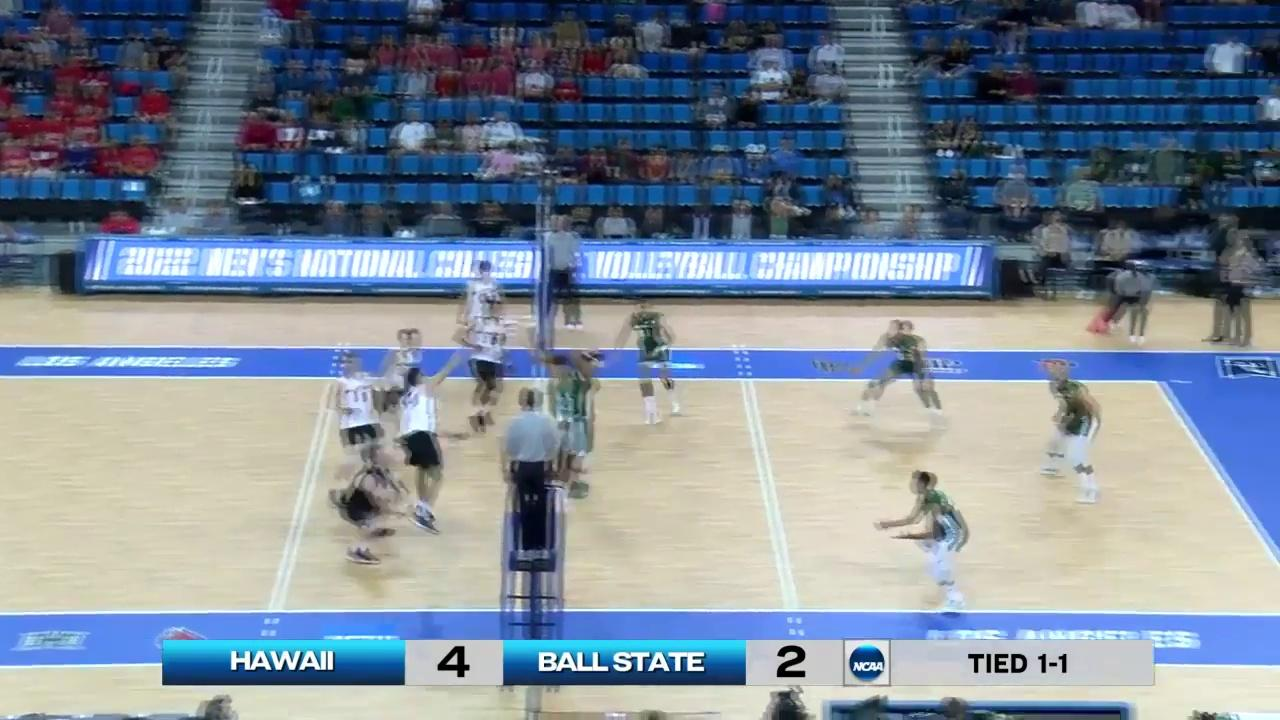player: (879, 469, 972, 608), (848, 319, 946, 426), (399, 365, 452, 533), (1042, 359, 1102, 503), (339, 448, 409, 568), (370, 328, 438, 445), (329, 355, 391, 480), (621, 300, 682, 423), (453, 262, 511, 380), (561, 351, 604, 504), (547, 356, 585, 518), (466, 300, 505, 435)
refree: (503, 389, 561, 561), (1089, 264, 1153, 347), (540, 216, 587, 328)
